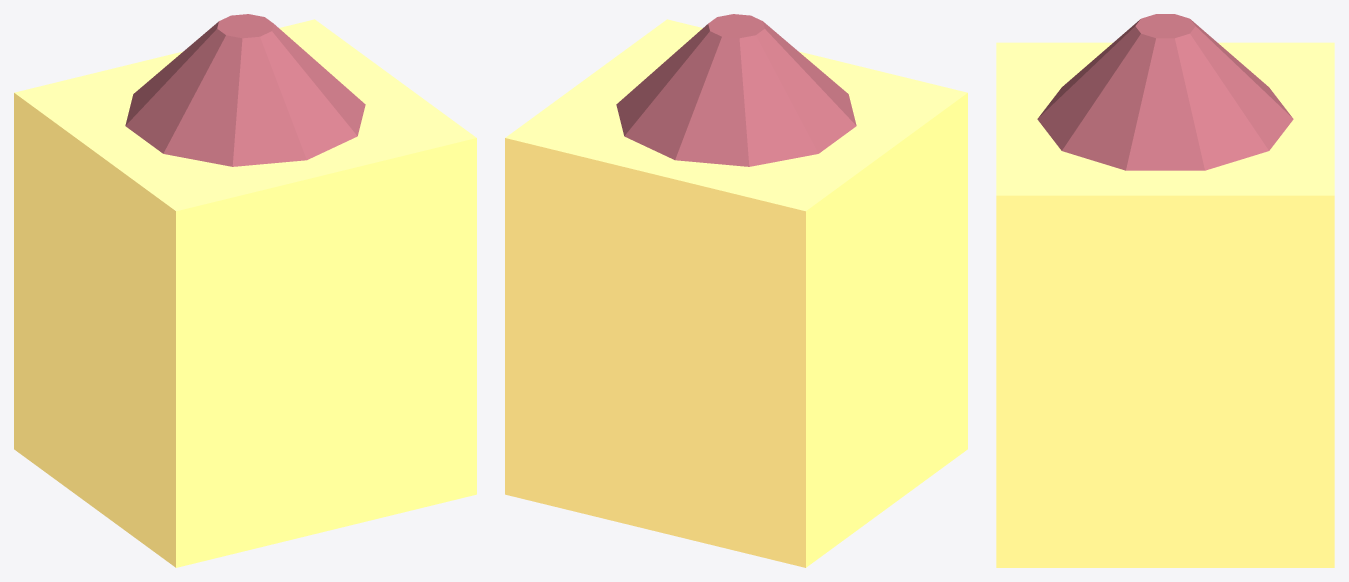
File: prop_intact.glb
3 renders of one model, left to right at view 1: azimuth 30°, elevation 25°; view 2: azimuth 150°, elevation 25°; view 3: azimuth 270°, elevation 25°, orthographic. The views are drawn at different scales.
Visible parts, largest first — view 1: SpiceCrate, SpiceMound; view 2: SpiceCrate, SpiceMound; view 3: SpiceCrate, SpiceMound.
Part boxes in pixels (x1,y1,x2,y2): SpiceCrate: (14, 19, 476, 567); SpiceMound: (125, 14, 365, 166); SpiceCrate: (505, 19, 967, 567); SpiceMound: (616, 14, 856, 166); SpiceCrate: (996, 42, 1334, 567); SpiceMound: (1037, 14, 1293, 170).
Size of the model in its own units: 0.6 by 0.85 by 0.56.
